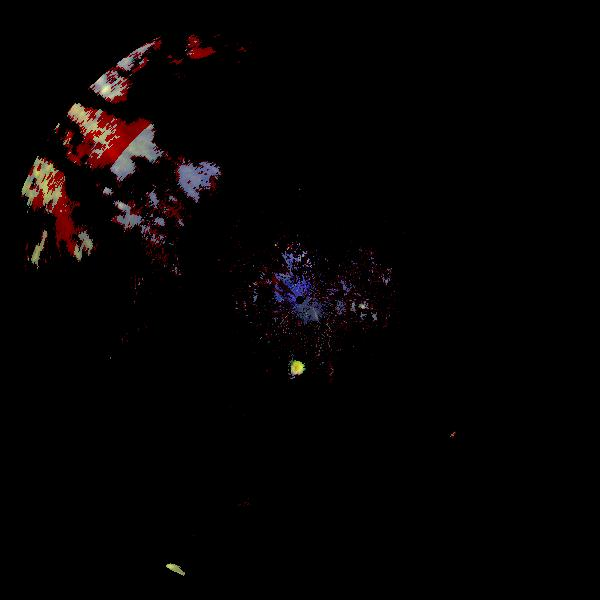roost: (445, 426, 481, 462), (287, 358, 308, 379)
